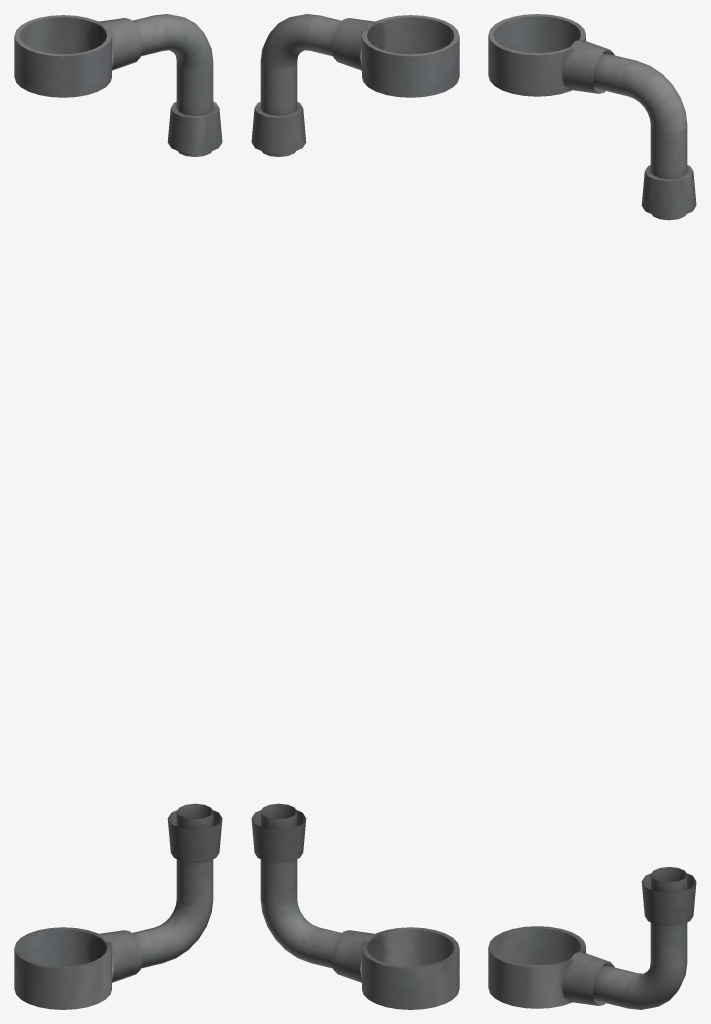
Rendered from frontMountPipe-v1-galvanised.glb.
3 views of the same model, side by side, from view 1: azimuth 30°, elevation 25°; view 2: azimuth 150°, elevation 25°; view 3: azimuth 330°, elevation 25° (orthographic).
Visible parts, largest first — view 1: frontMountPipe-v1-galvanised; view 2: frontMountPipe-v1-galvanised; view 3: frontMountPipe-v1-galvanised.
Boxes of the visible parts, left/top/right/bottom form: frontMountPipe-v1-galvanised: left=14, top=14, right=222, bottom=1009; frontMountPipe-v1-galvanised: left=251, top=14, right=459, bottom=1009; frontMountPipe-v1-galvanised: left=488, top=14, right=696, bottom=1009.
Bounding box in the file's own units: 0.3001 × 1.39 × 0.1283.
Materials: 1 (1 with a texture image).
